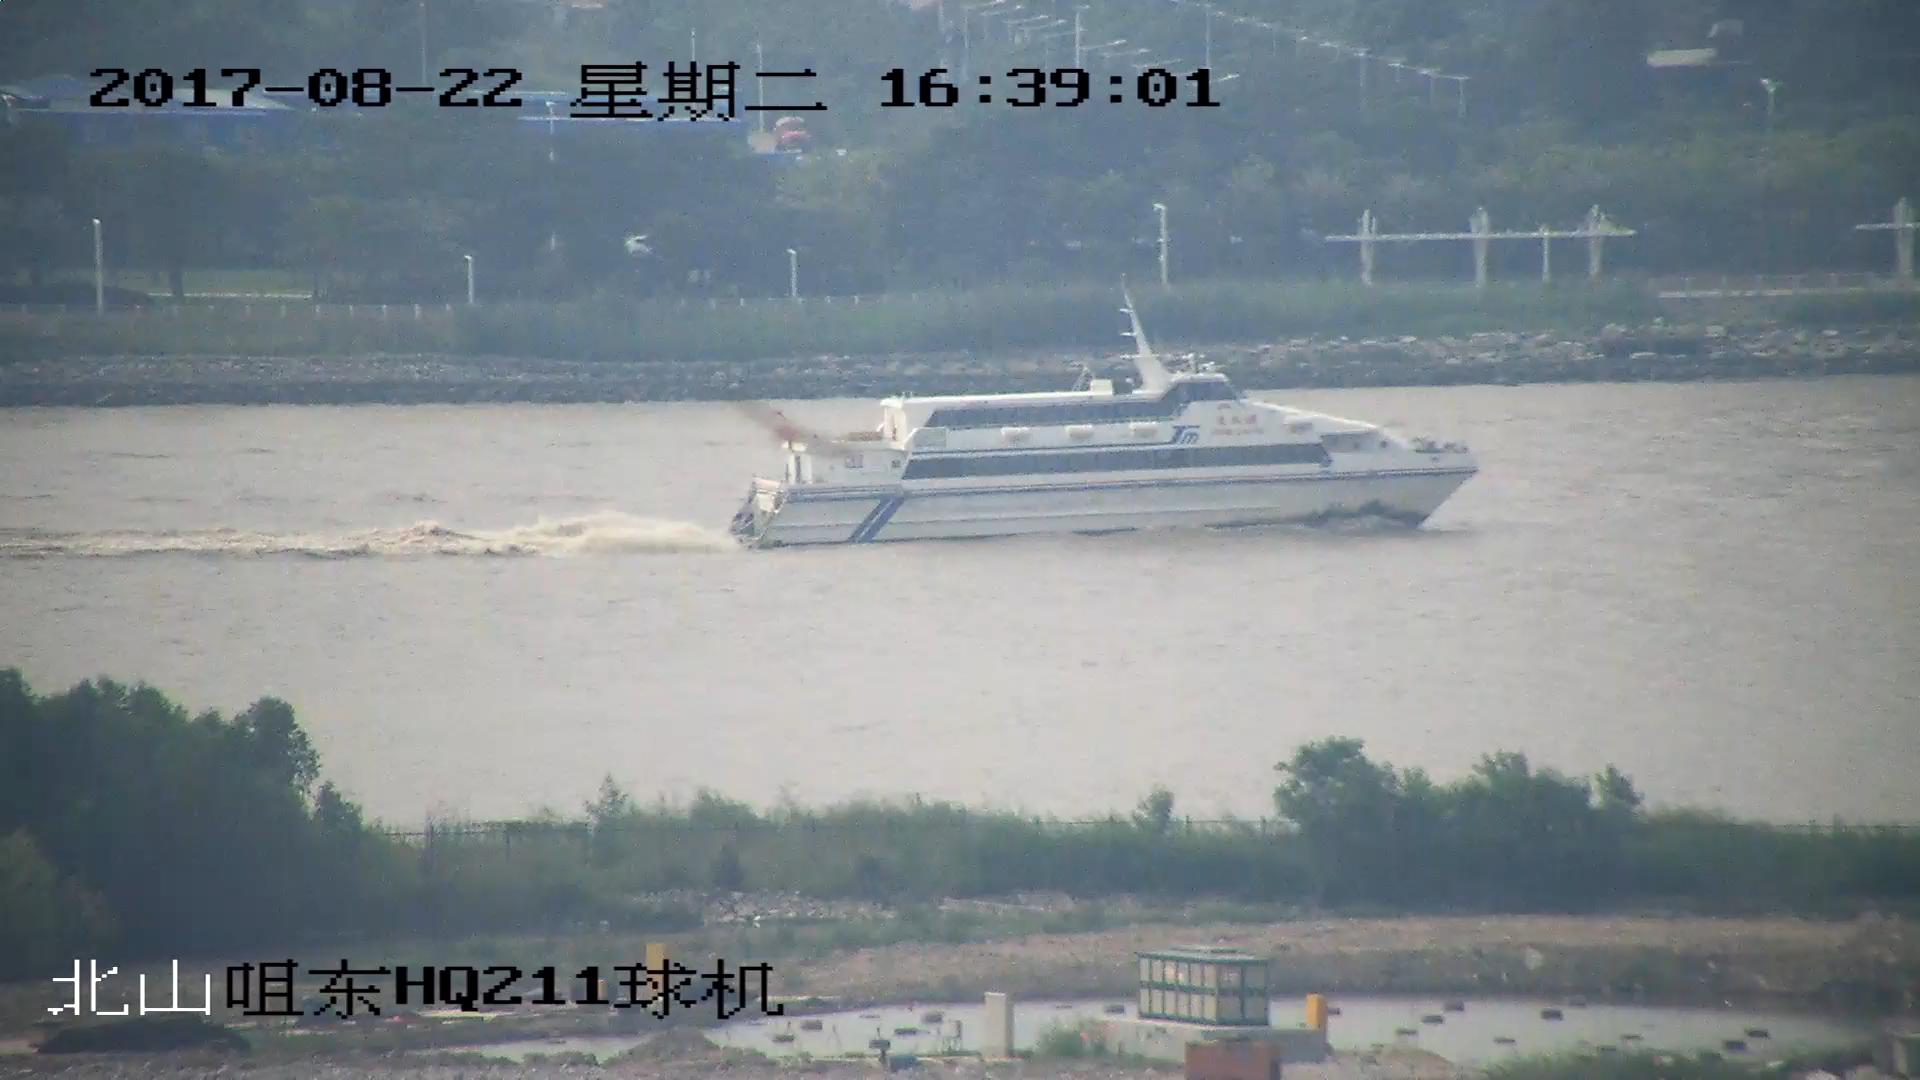passenger ship: (734, 283, 1478, 543)
